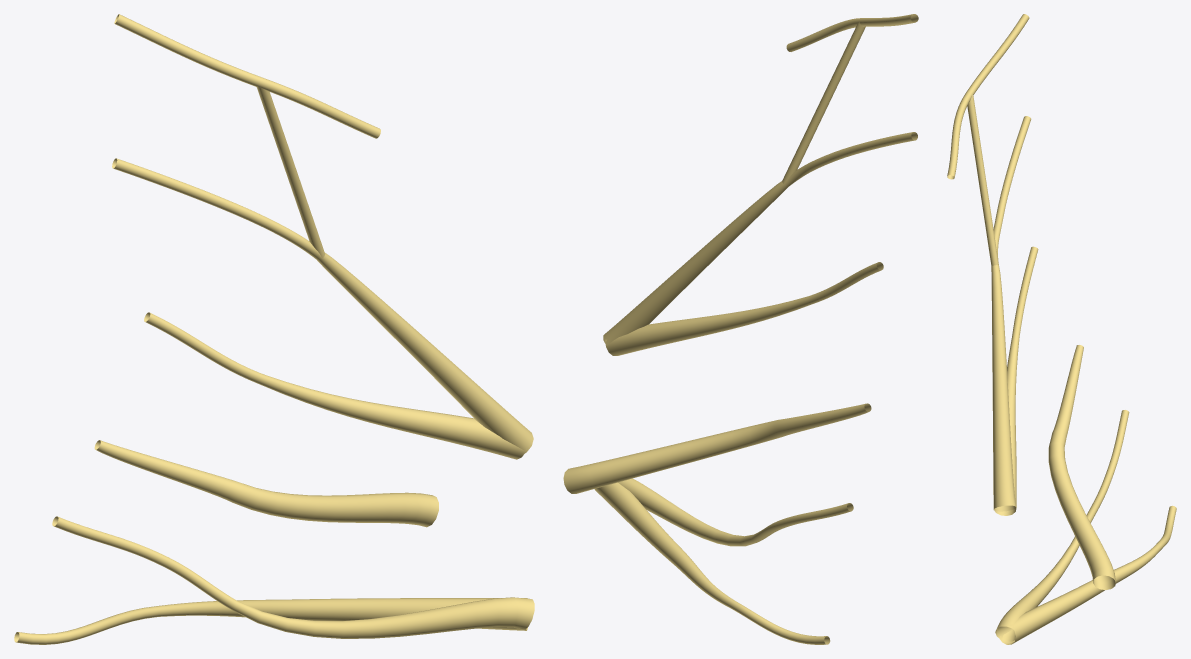
The picture shows the model from 3 angles, left to right: view 1: azimuth 30°, elevation 25°; view 2: azimuth 150°, elevation 25°; view 3: azimuth 270°, elevation 25°; orthographic projection. The views are drawn at different scales.
Visible parts, largest first — view 1: ZA_33bc64f942d762f2; view 2: ZA_33bc64f942d762f2; view 3: ZA_33bc64f942d762f2.
Part boxes in pixels (x1,y1,x2,y2): ZA_33bc64f942d762f2: [14, 14, 534, 644]; ZA_33bc64f942d762f2: [563, 14, 918, 644]; ZA_33bc64f942d762f2: [947, 14, 1176, 644].
Bounding box in the file's own units: 0.0429 × 0.0717 × 0.0296.
